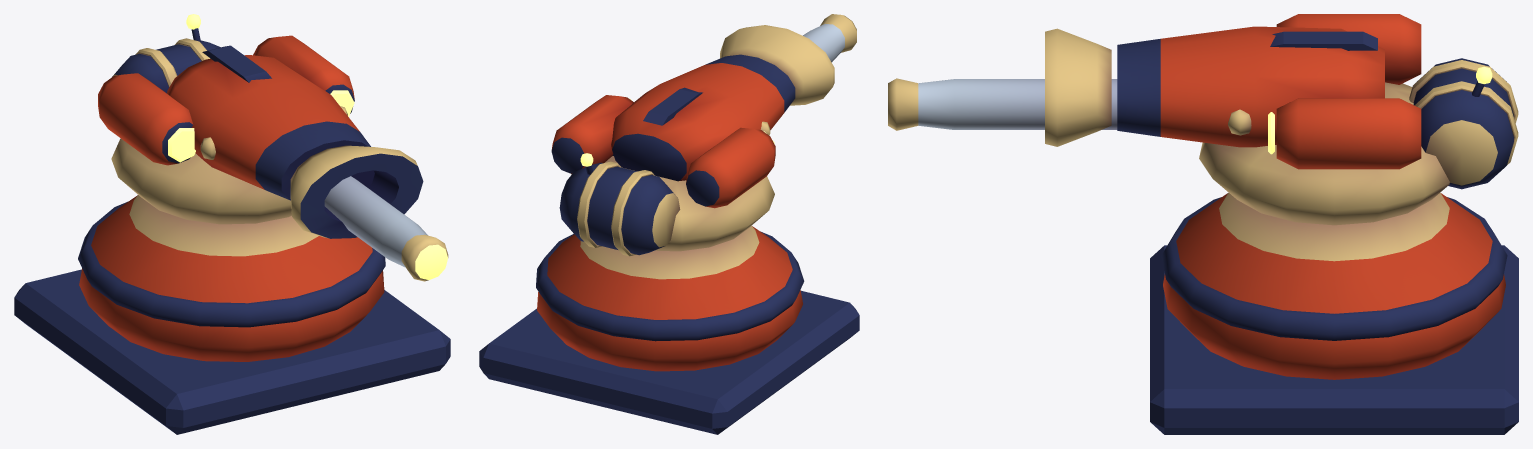
File: R4W_Basic_LOD1.fbx
The picture shows the model from 3 angles, left to right: view 1: azimuth 30°, elevation 25°; view 2: azimuth 150°, elevation 25°; view 3: azimuth 270°, elevation 25°; orthographic projection. The views are drawn at different scales.
Visible parts, largest first — view 1: R4W_Basic_LOD1; view 2: R4W_Basic_LOD1; view 3: R4W_Basic_LOD1.
Part boxes in pixels (x1,y1,x2,y2): R4W_Basic_LOD1: [14, 14, 450, 434]; R4W_Basic_LOD1: [479, 14, 859, 434]; R4W_Basic_LOD1: [888, 14, 1518, 434].
Size of the model in its own units: 0.51 by 0.496 by 0.872.
